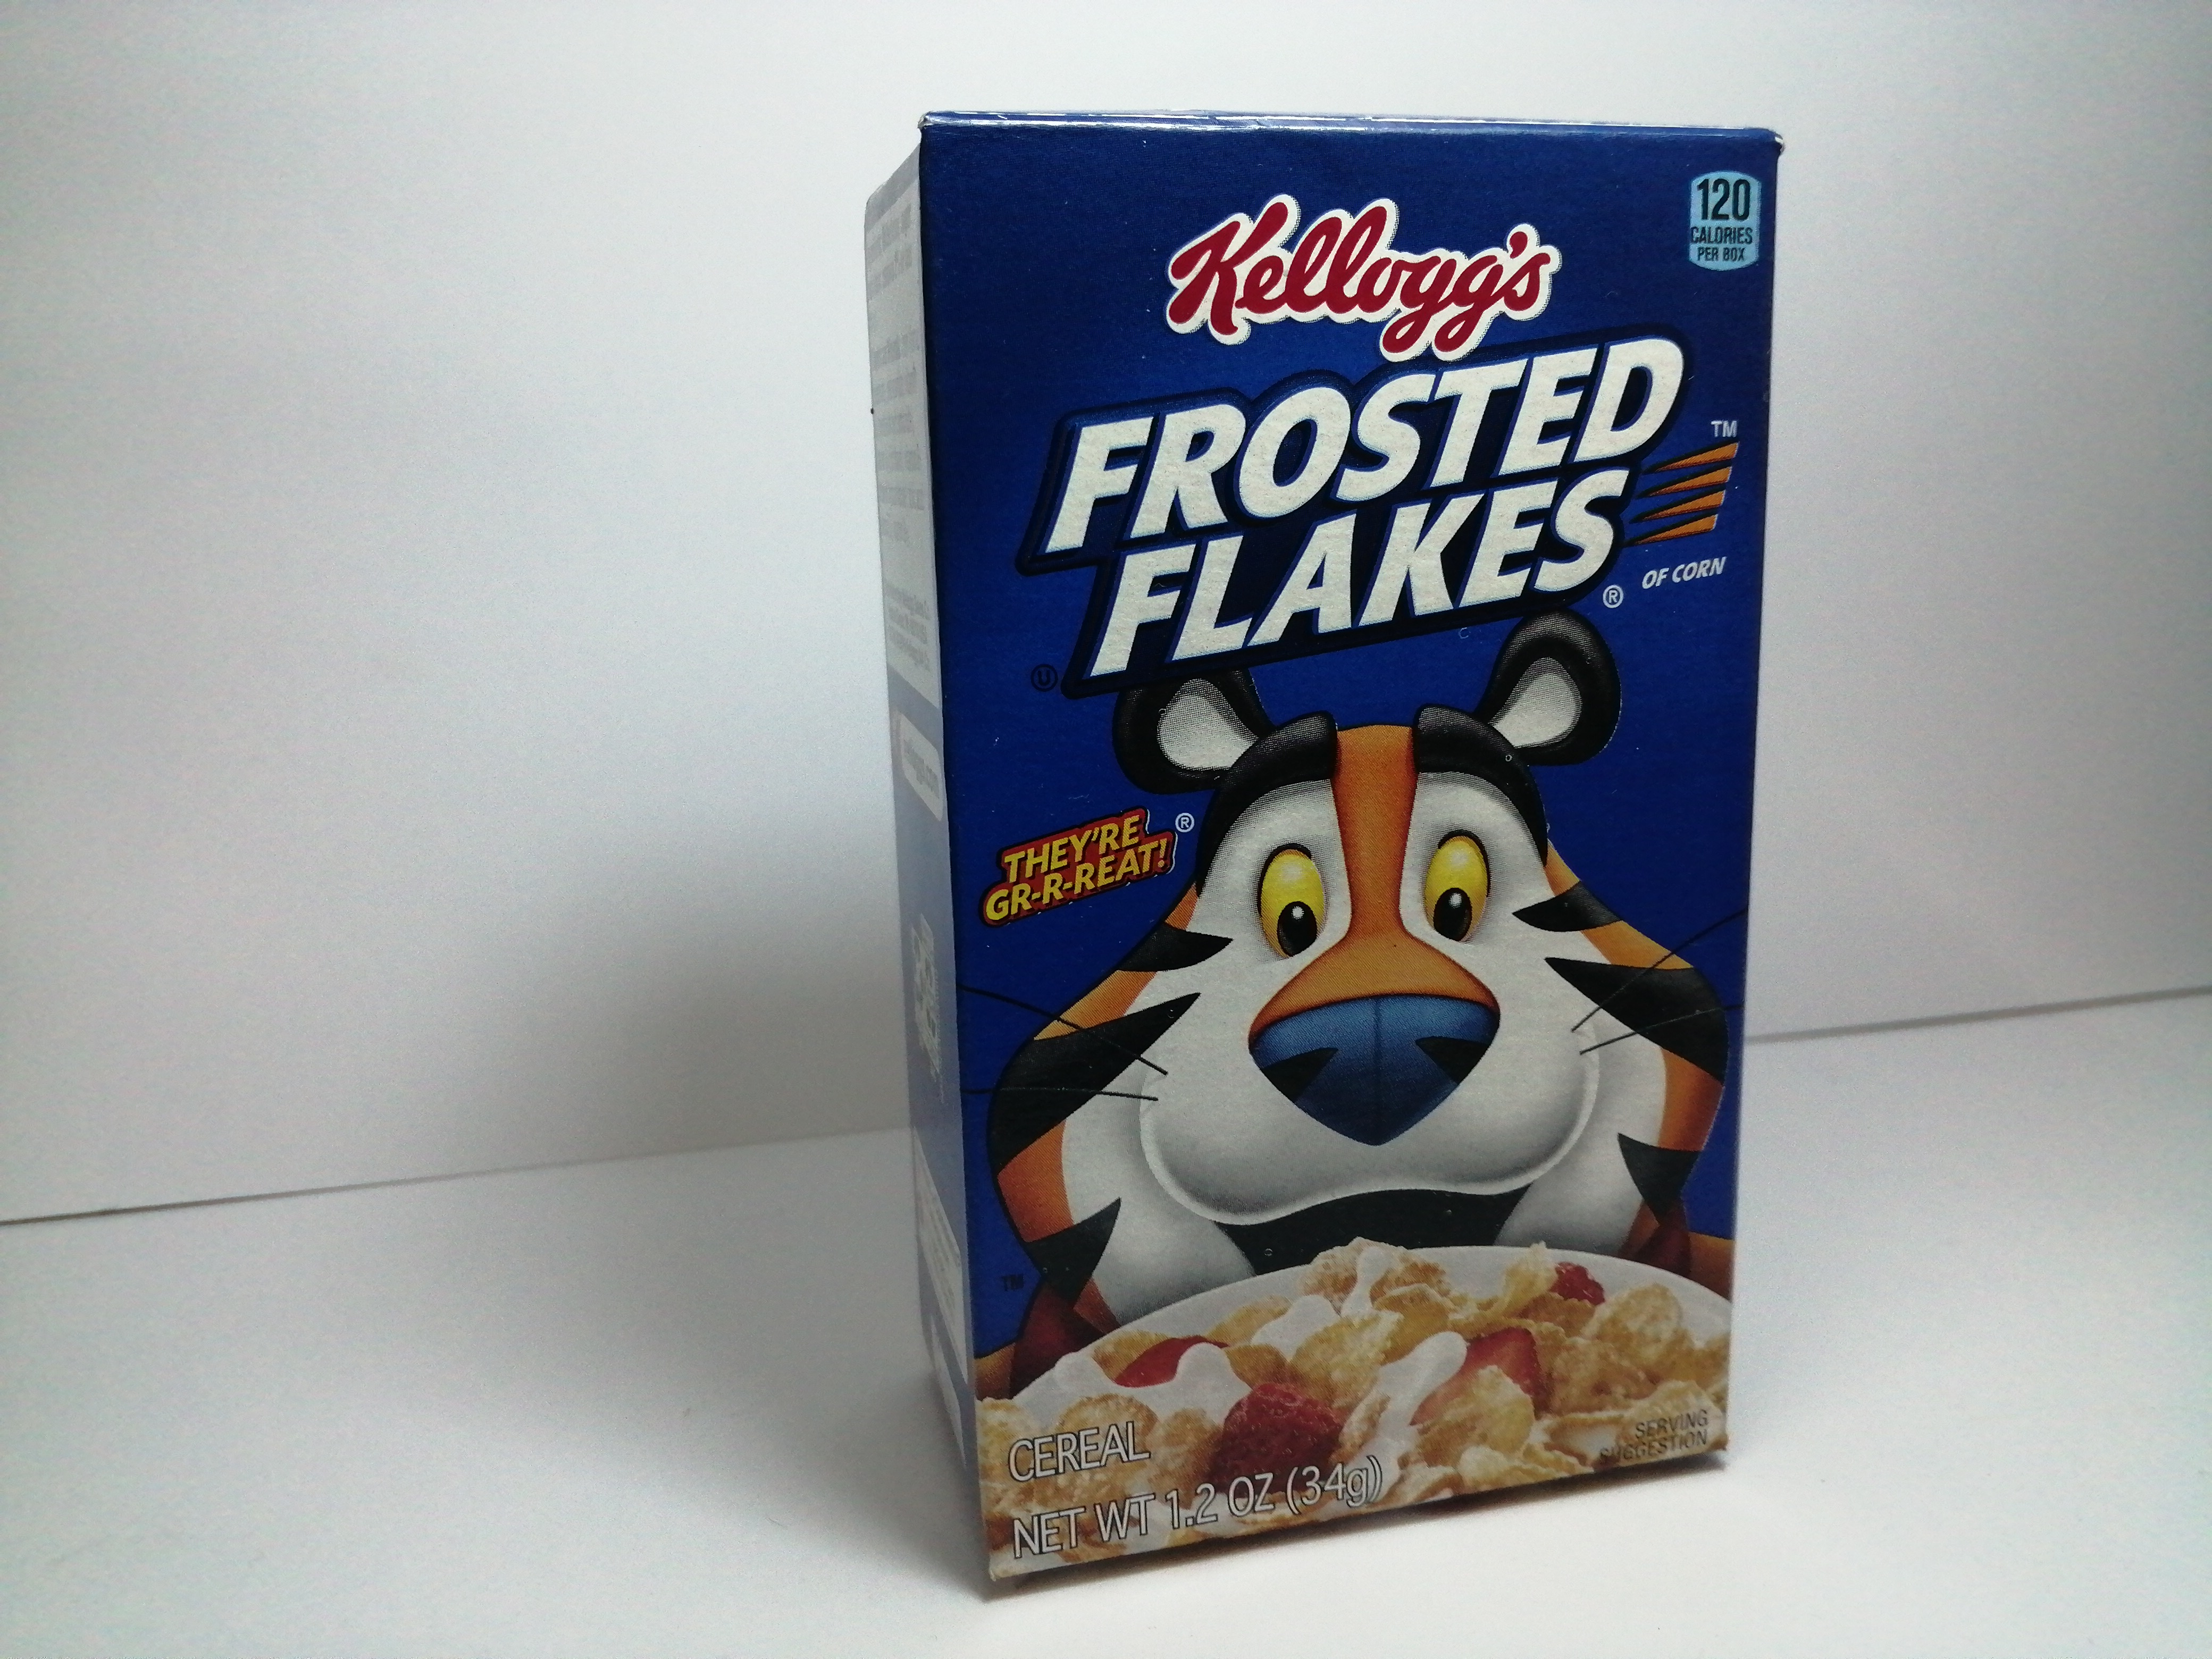cereal azucarado: (846, 63, 1791, 1603)
